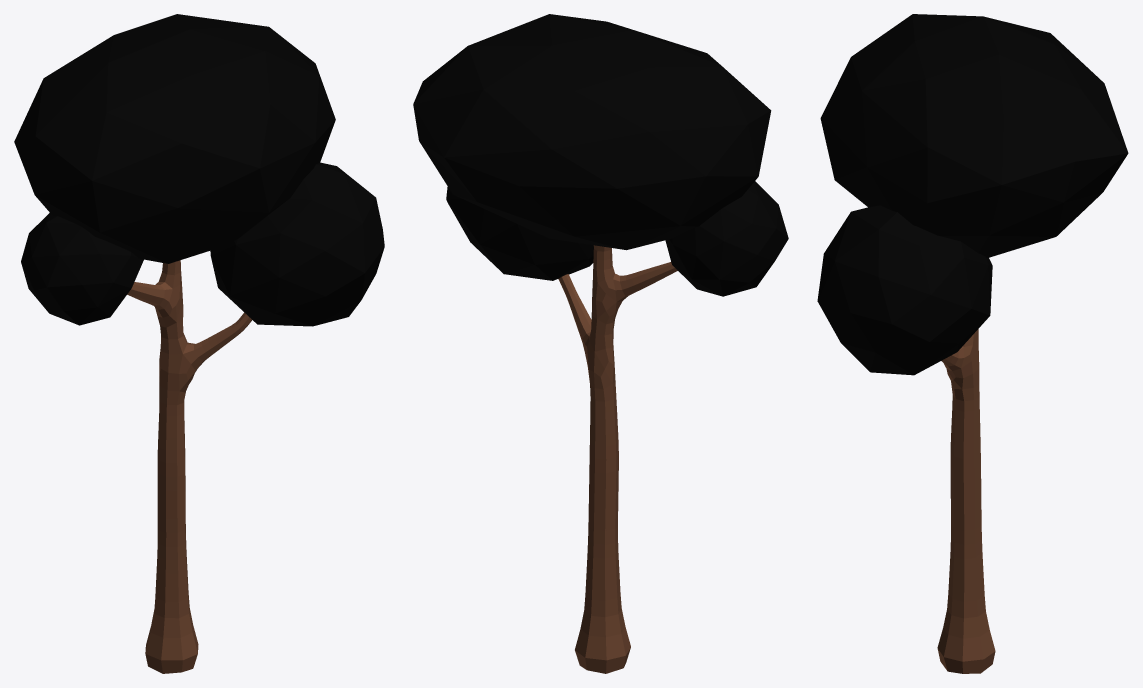
File: Tree_Foliage_Large-1.fbx
The picture shows the model from 3 angles, left to right: view 1: azimuth 30°, elevation 25°; view 2: azimuth 150°, elevation 25°; view 3: azimuth 270°, elevation 25°; orthographic projection.
Visible parts, largest first — view 1: Tree_Foliage_Large-1; view 2: Tree_Foliage_Large-1; view 3: Tree_Foliage_Large-1.
Part boxes in pixels (bbox=[...]): Tree_Foliage_Large-1: bbox=[14, 14, 384, 673]; Tree_Foliage_Large-1: bbox=[413, 14, 788, 673]; Tree_Foliage_Large-1: bbox=[817, 14, 1128, 673].
Bounding box in the file's own units: 0.8416 × 1.51 × 0.6734.
